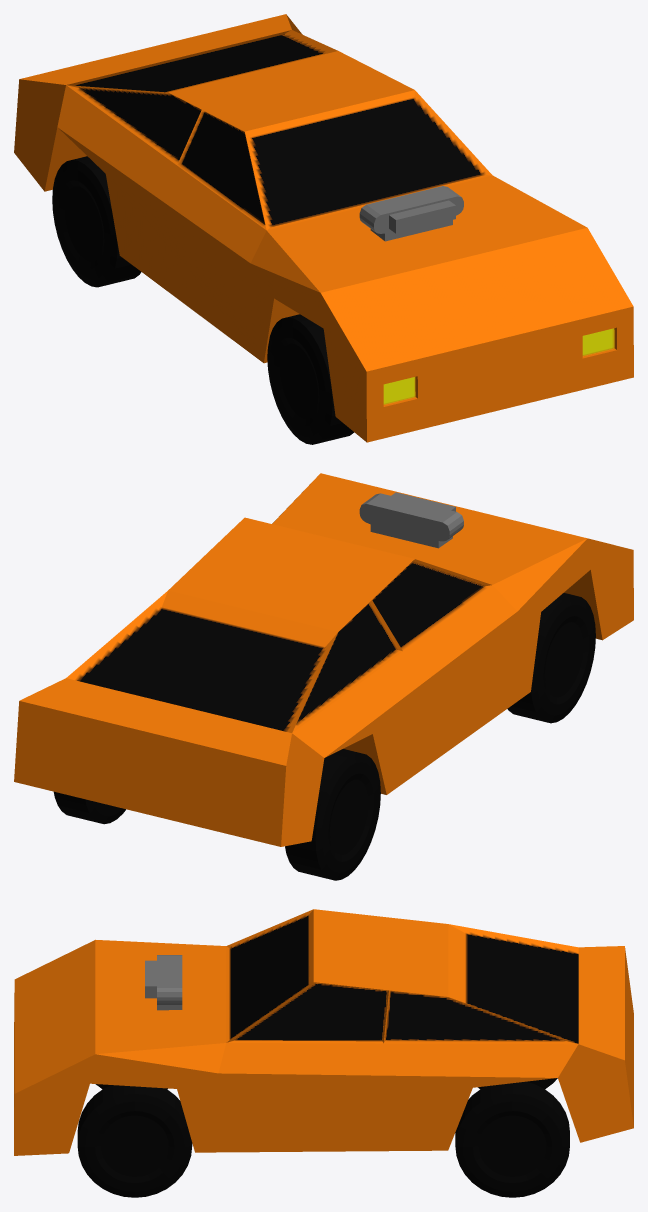
The model's file is car.glb.
The picture shows the model from 3 angles, top to bottom: view 1: azimuth 30°, elevation 25°; view 2: azimuth 150°, elevation 25°; view 3: azimuth 270°, elevation 25°; orthographic projection. The views are drawn at different scales.
Parts seen in each view (by area): view 1: Cube, front_right, back_right; view 2: Cube, back_right, front_right, back_lefet; view 3: Cube, back_lefet, front_left.
Part boxes in pixels (x1=…): Cube: x1=14, y1=14, x2=633, y2=442; front_right: x1=267, y1=314, x2=354, y2=444; back_right: x1=52, y1=156, x2=141, y2=287; Cube: x1=14, y1=473, x2=633, y2=846; back_right: x1=285, y1=749, x2=380, y2=880; front_right: x1=507, y1=593, x2=595, y2=723; back_lefet: x1=53, y1=791, x2=125, y2=824; Cube: x1=14, y1=909, x2=633, y2=1155; back_lefet: x1=455, y1=1081, x2=569, y2=1197; front_left: x1=77, y1=1085, x2=192, y2=1197.
Size of the model in its own units: 1.39 by 1.1 by 3.17.
Materials: 2 (1 with a texture image).
